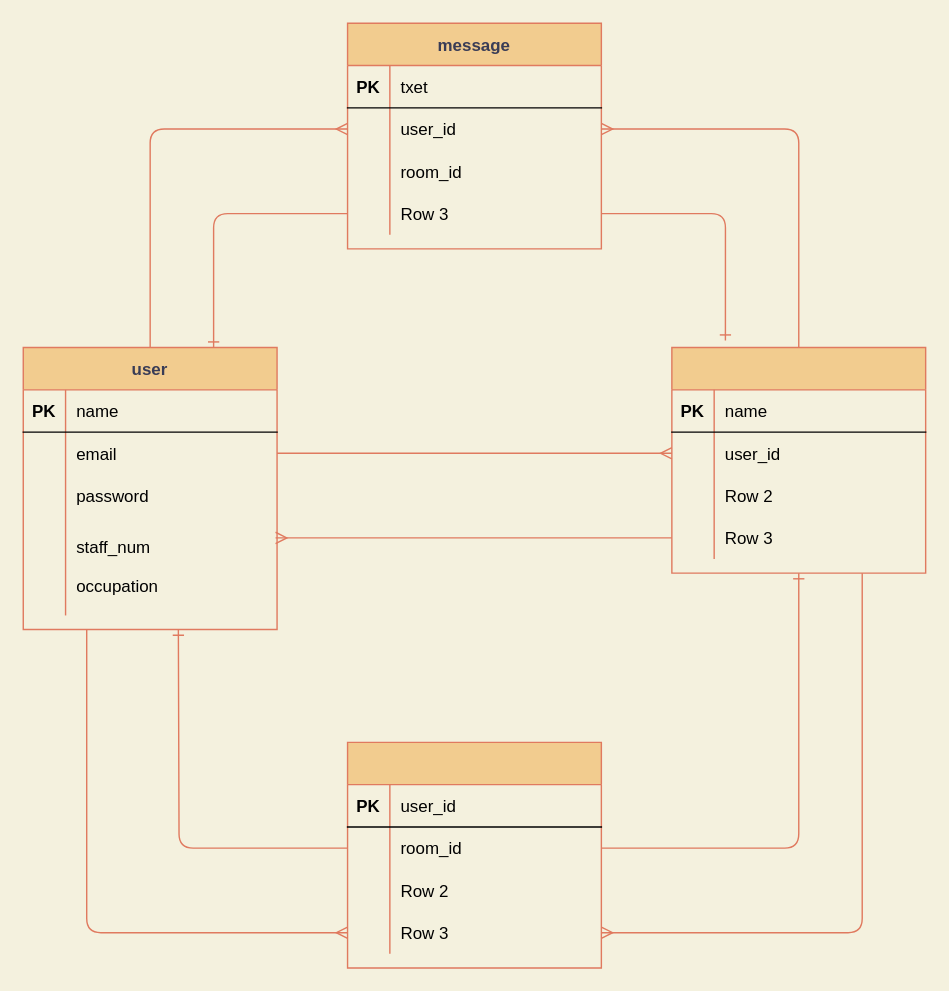
Image size: 949x991. Some labels were removed from this diagram. Each missing label, with the box of its shape:
room: (670, 346, 926, 573)
user_room: (346, 741, 601, 968)
